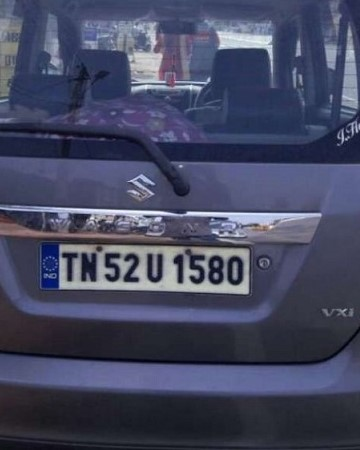TN52U1580: (40, 241, 252, 295)
